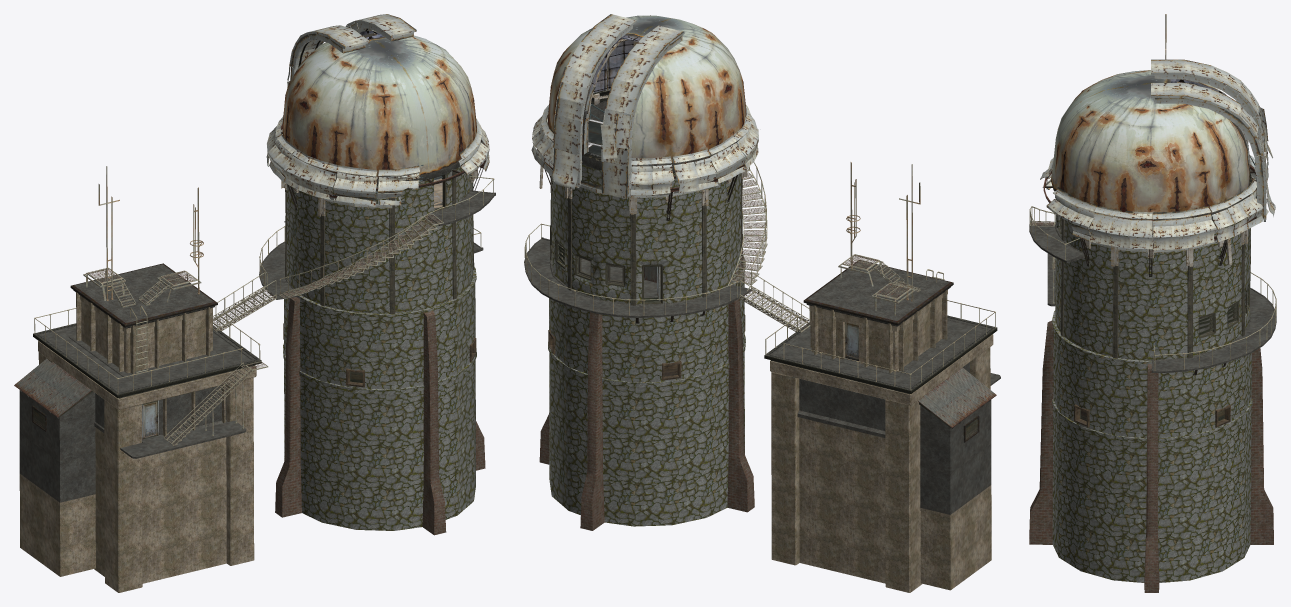
File: Ghost Warrior 2.FBX
3 renders of one model, left to right at view 1: azimuth 30°, elevation 25°; view 2: azimuth 150°, elevation 25°; view 3: azimuth 270°, elevation 25°, orthographic. The views are drawn at different scales.
Visible parts, largest first — view 1: 39cbf4a9; view 2: 39cbf4a9; view 3: 39cbf4a9.
Part boxes in pixels (bbox=[...]): 39cbf4a9: bbox=[14, 14, 495, 592]; 39cbf4a9: bbox=[524, 14, 1000, 592]; 39cbf4a9: bbox=[1029, 14, 1276, 592].
Size of the model in its own units: 55.68 by 55.57 by 26.72.
